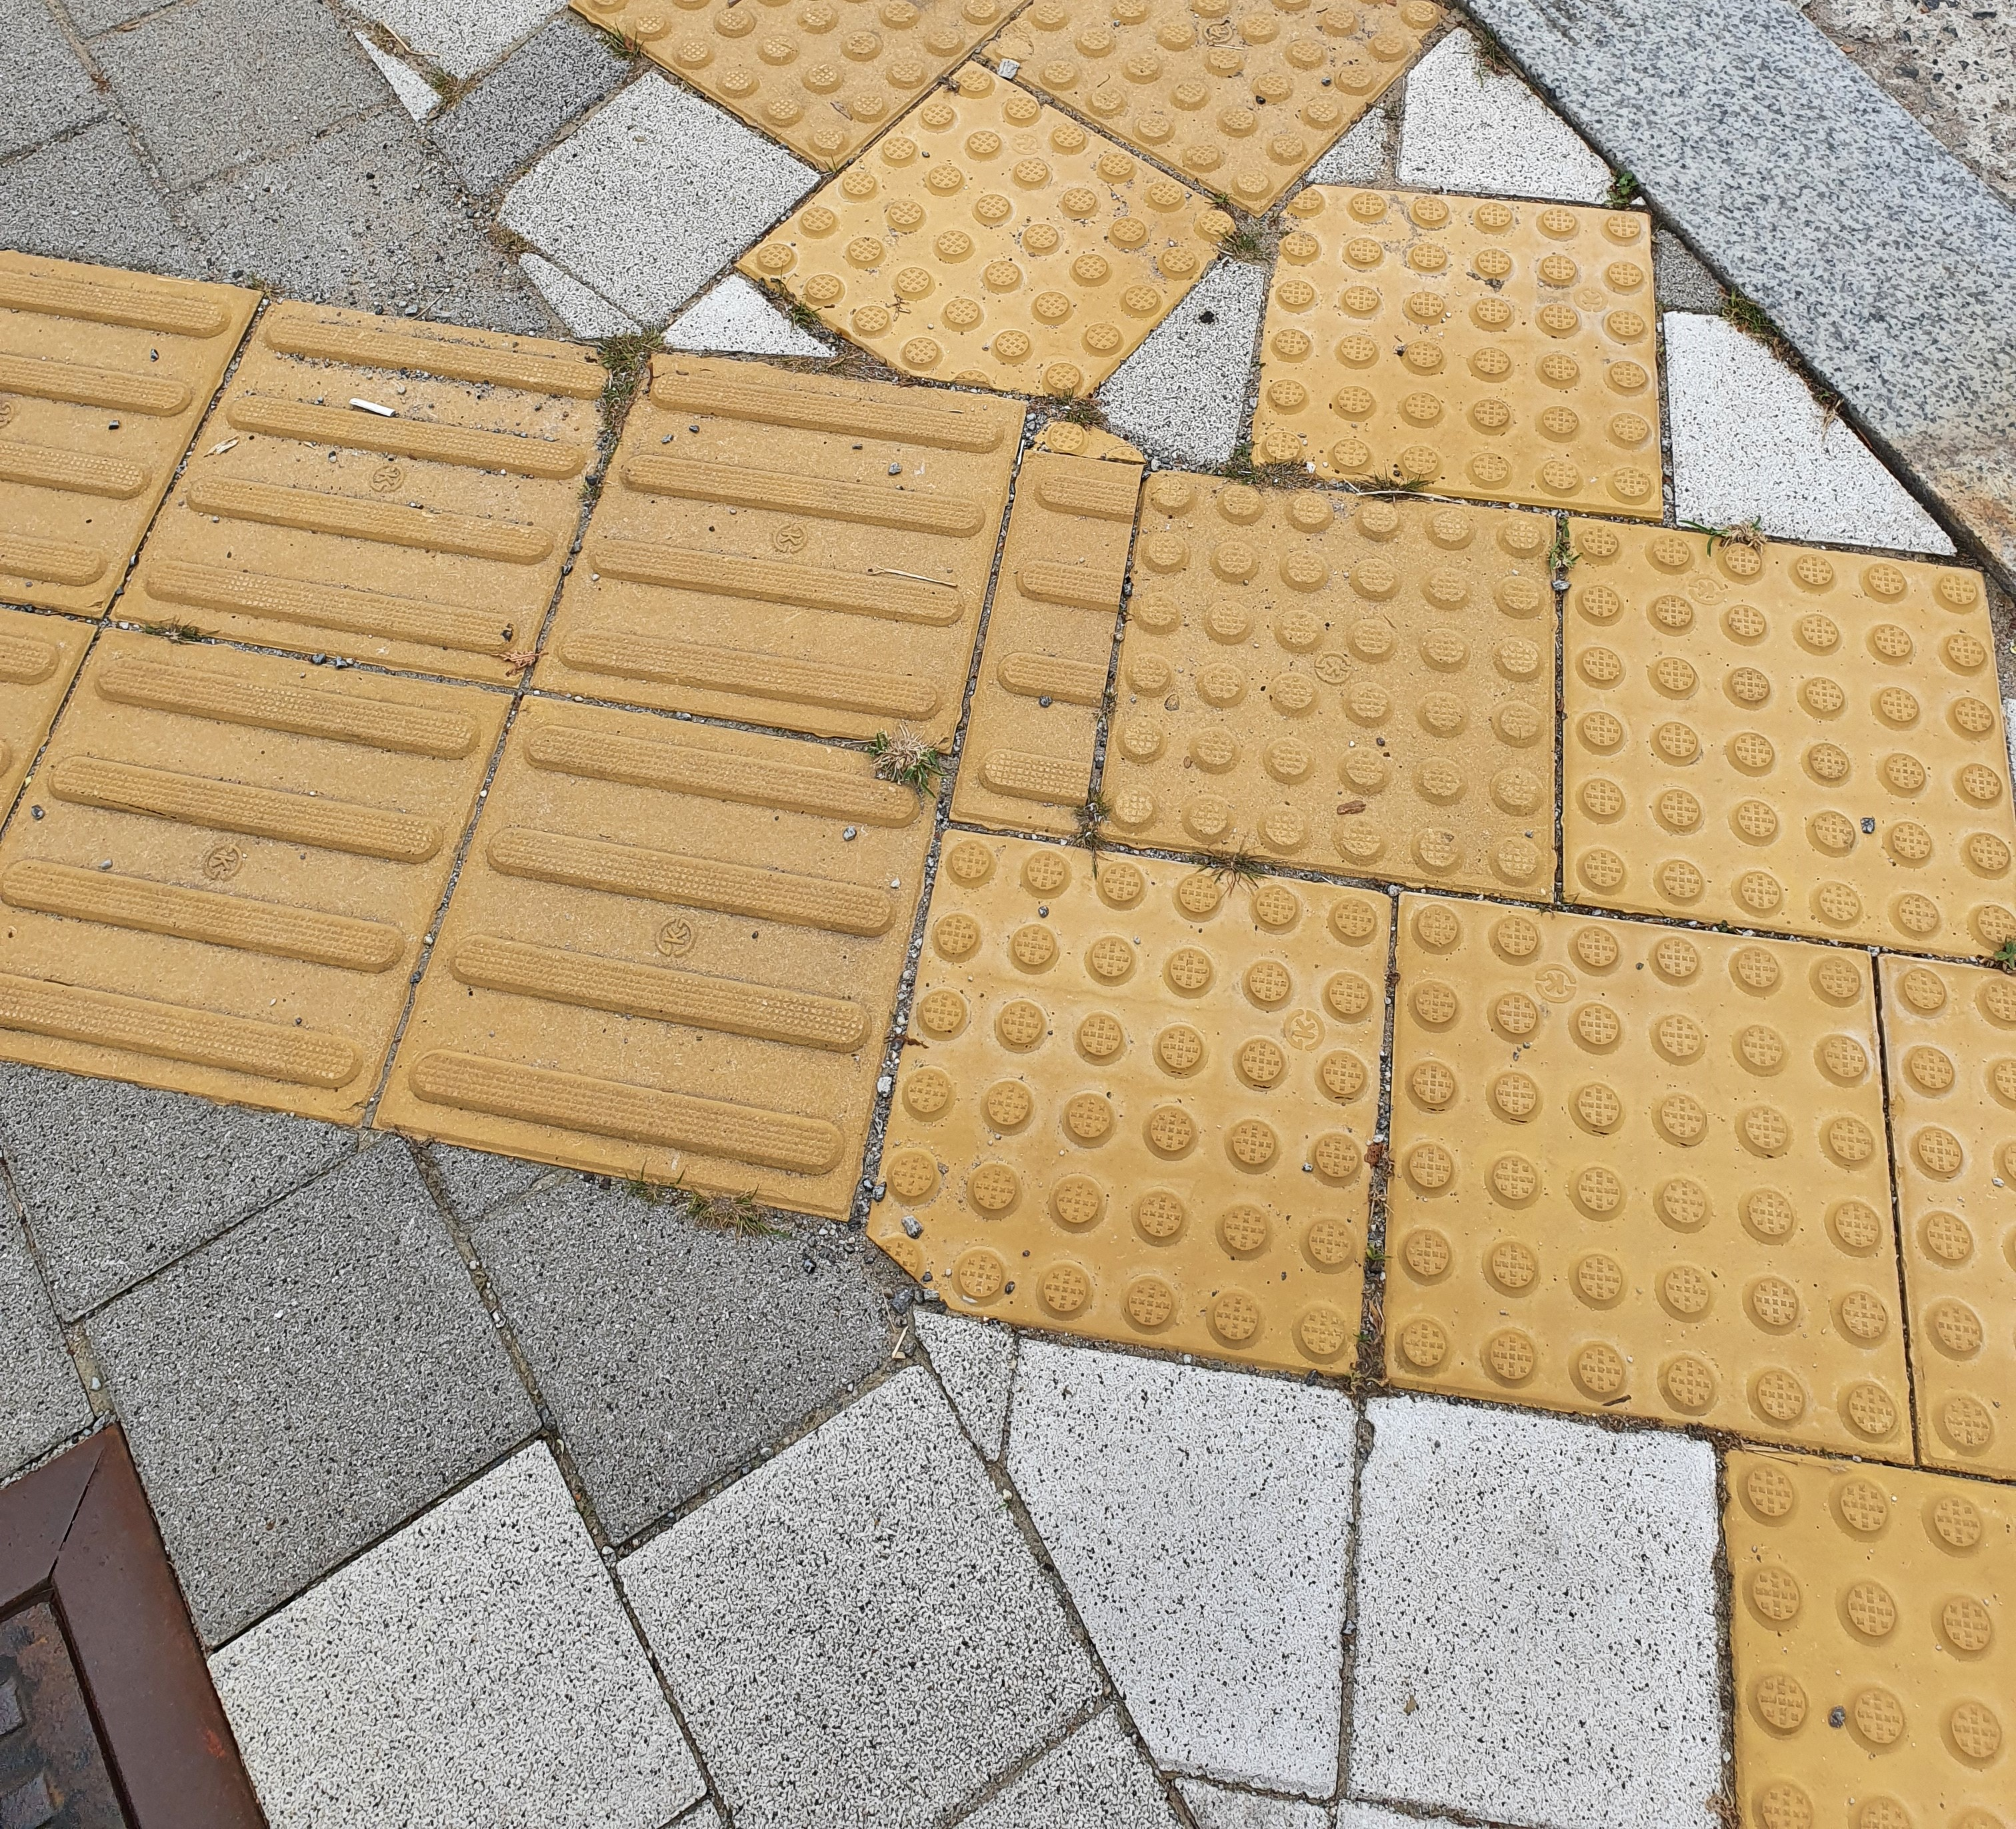guideBlock: (19, 644, 537, 1078), (446, 751, 869, 1234), (128, 263, 588, 679), (623, 367, 996, 767), (2, 239, 320, 630)
warningBlock: (1398, 900, 1911, 1473), (929, 823, 1444, 1353), (1514, 528, 2016, 992), (1143, 481, 1559, 876), (1271, 183, 1698, 504), (820, 100, 1238, 360)
